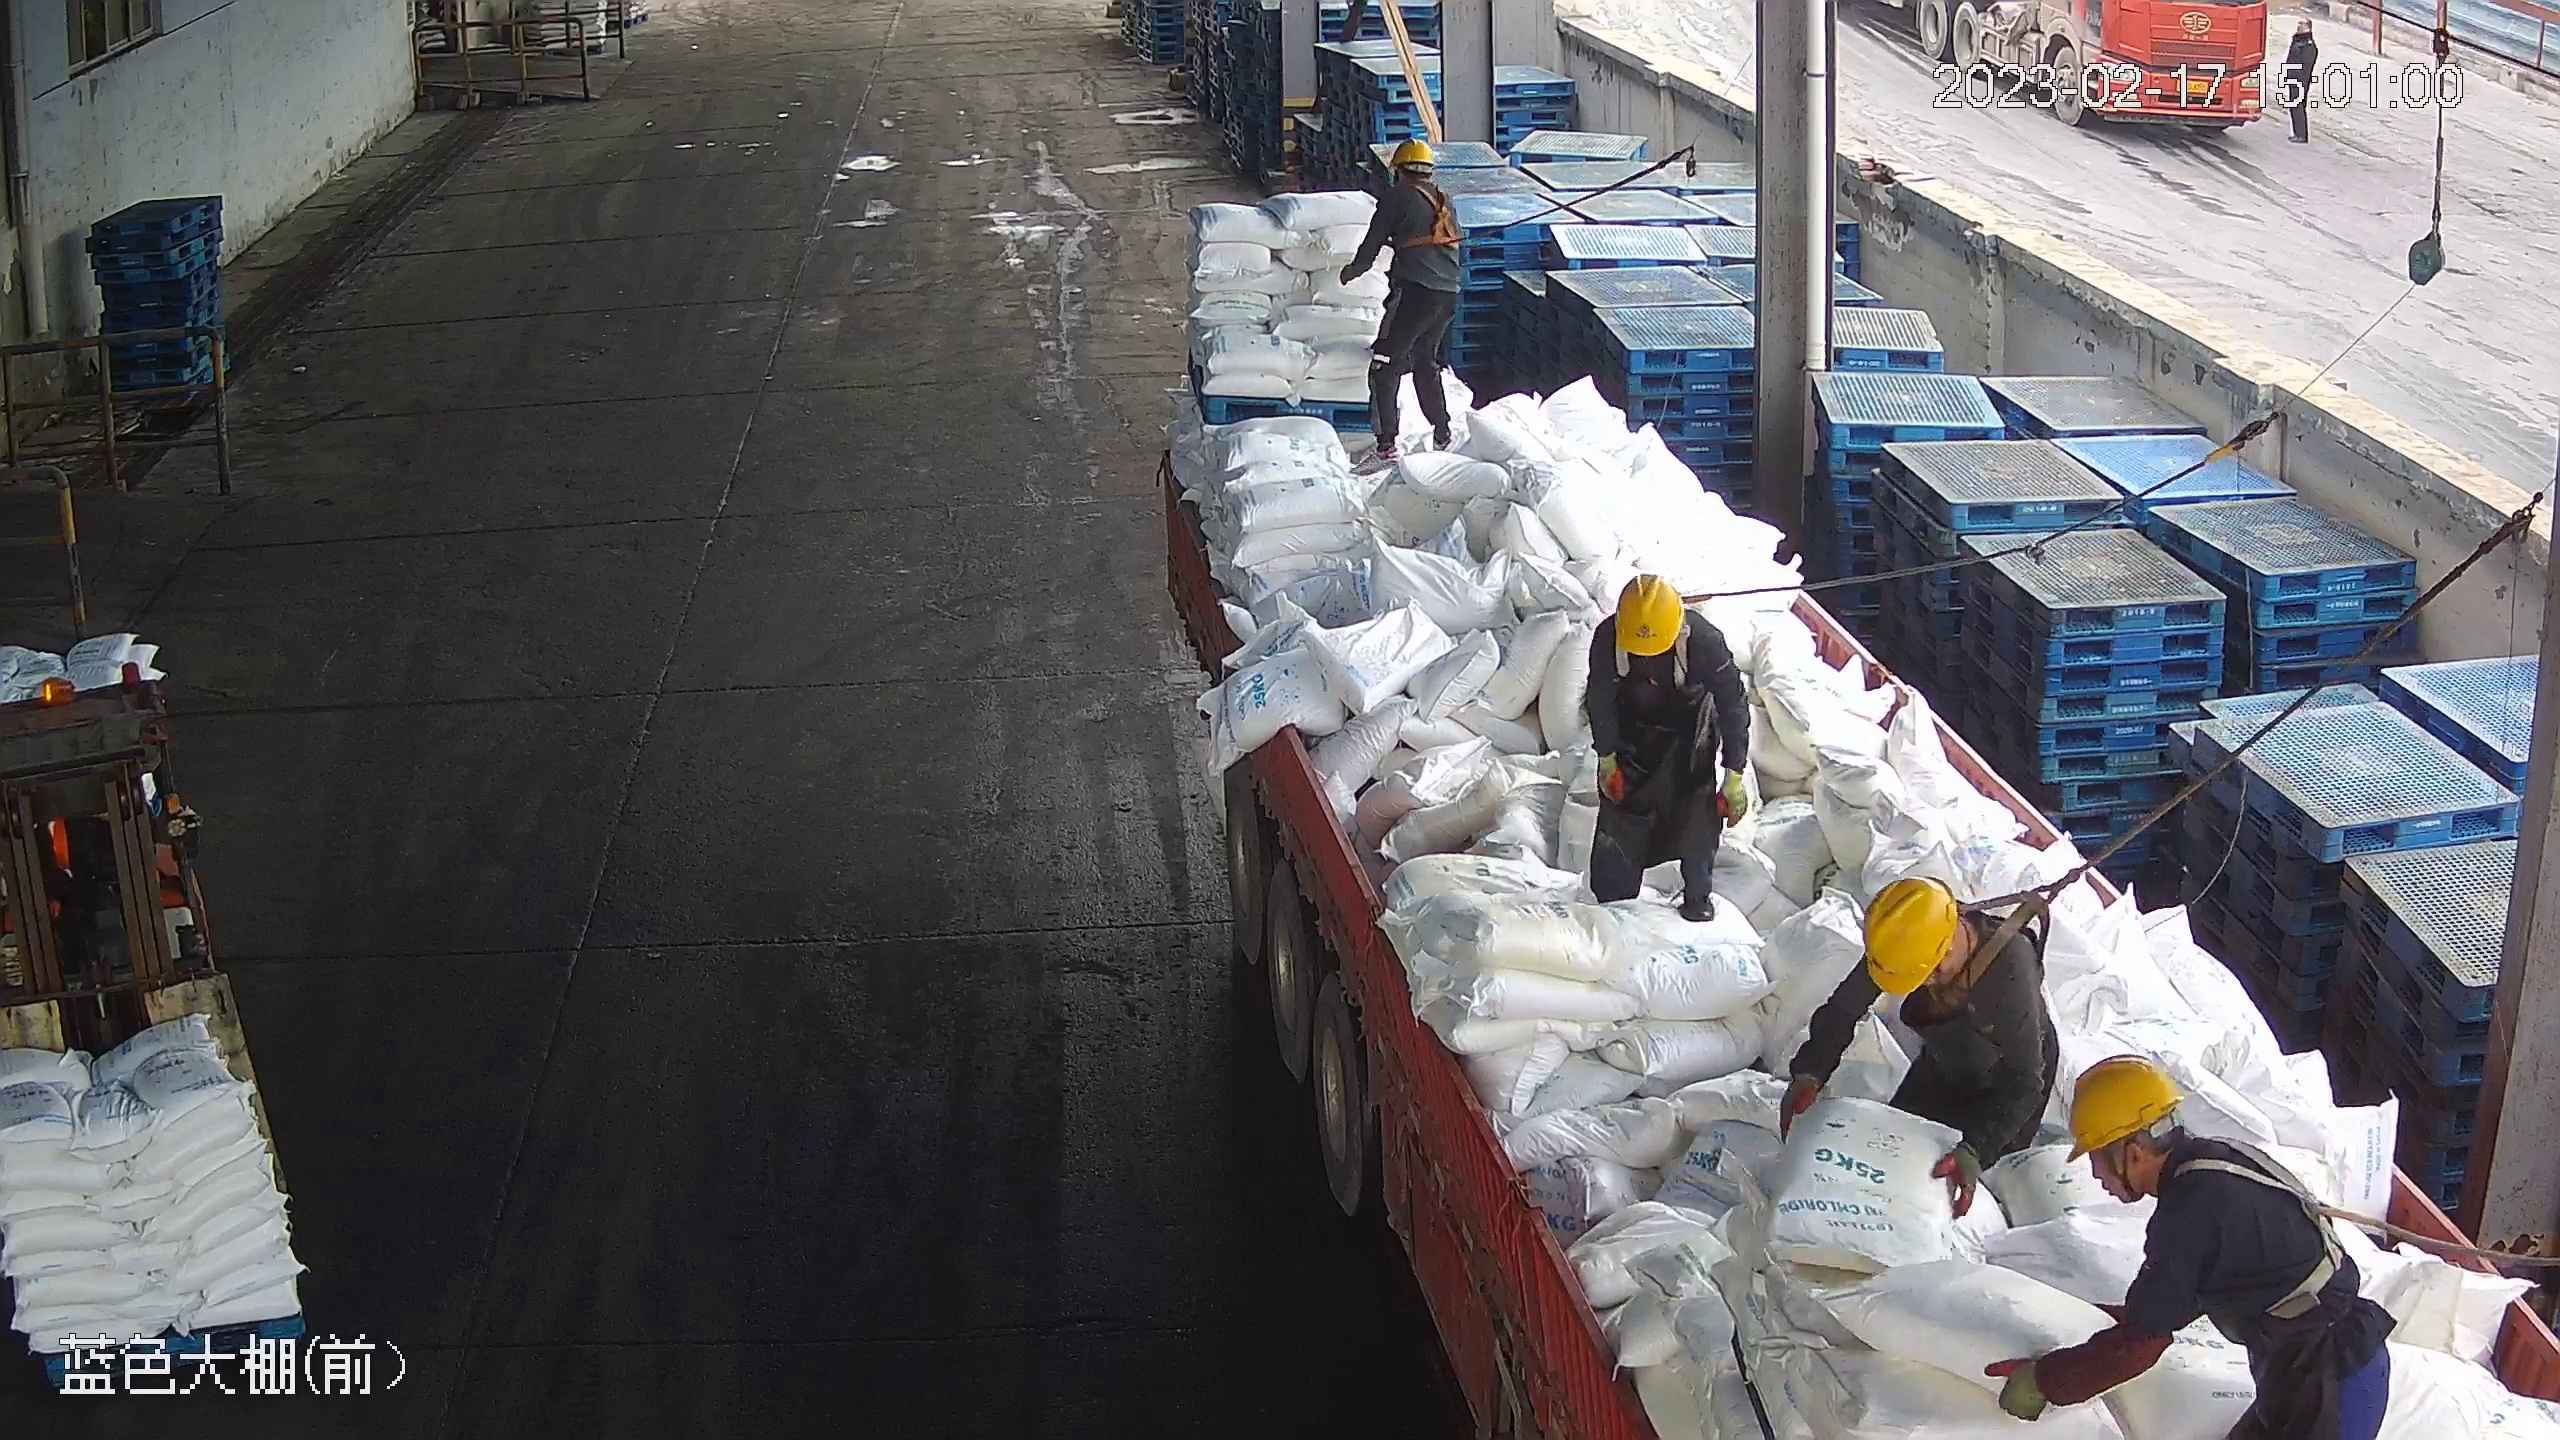belt: (2174, 1133, 2355, 1320), (1922, 869, 2095, 1026), (1606, 586, 1719, 689), (1393, 183, 1462, 251)
head: (2064, 1054, 2289, 1241), (1856, 873, 2042, 1034), (1590, 572, 1731, 680), (1376, 139, 1457, 214)
helmet: (2065, 1053, 2185, 1163), (1862, 876, 1953, 994), (1617, 572, 1684, 656), (1388, 138, 1435, 170)
people: (1981, 1055, 2404, 1440), (1773, 870, 2068, 1216), (1584, 573, 1749, 921), (1339, 138, 1462, 478)
truck: (1156, 409, 2560, 1440)
